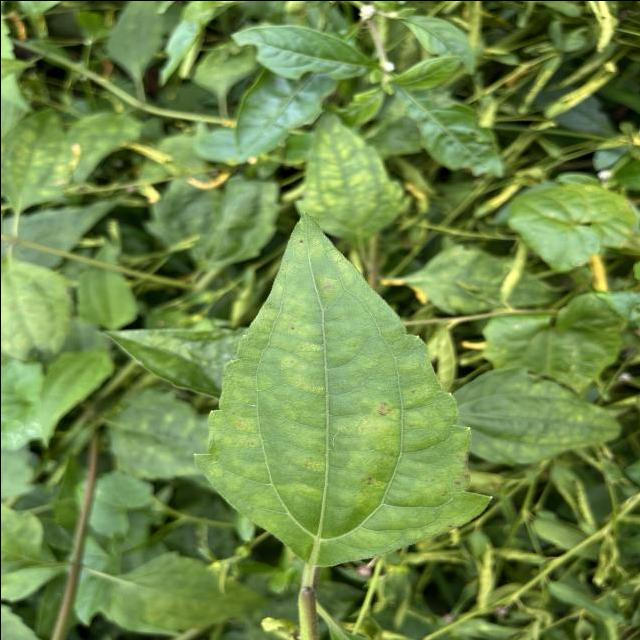Chromolaena odorata: (188, 206, 500, 570)
